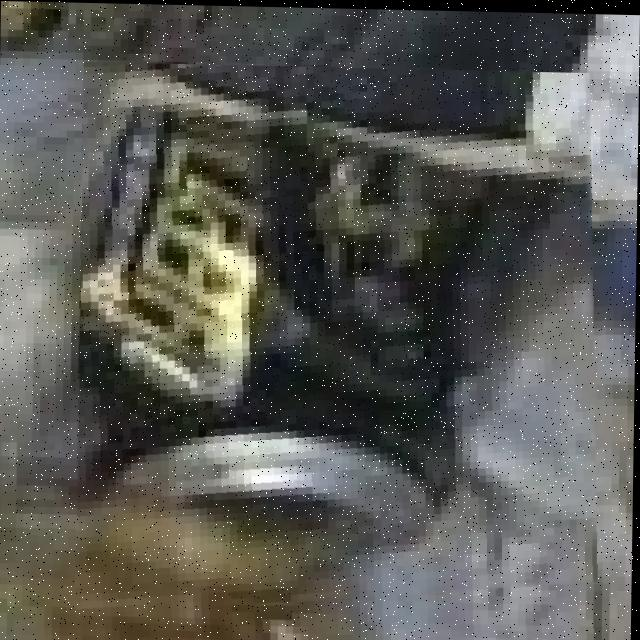can: (79, 61, 594, 599)
